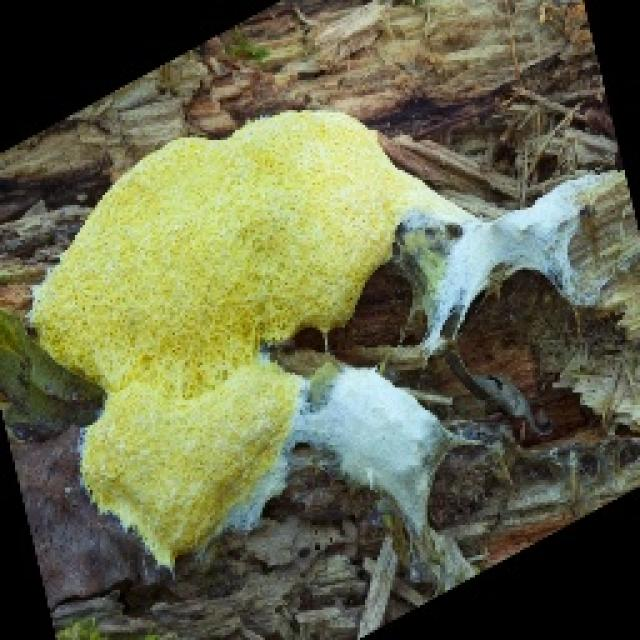Dog_vomit_slime_mold: (26, 110, 628, 574)
